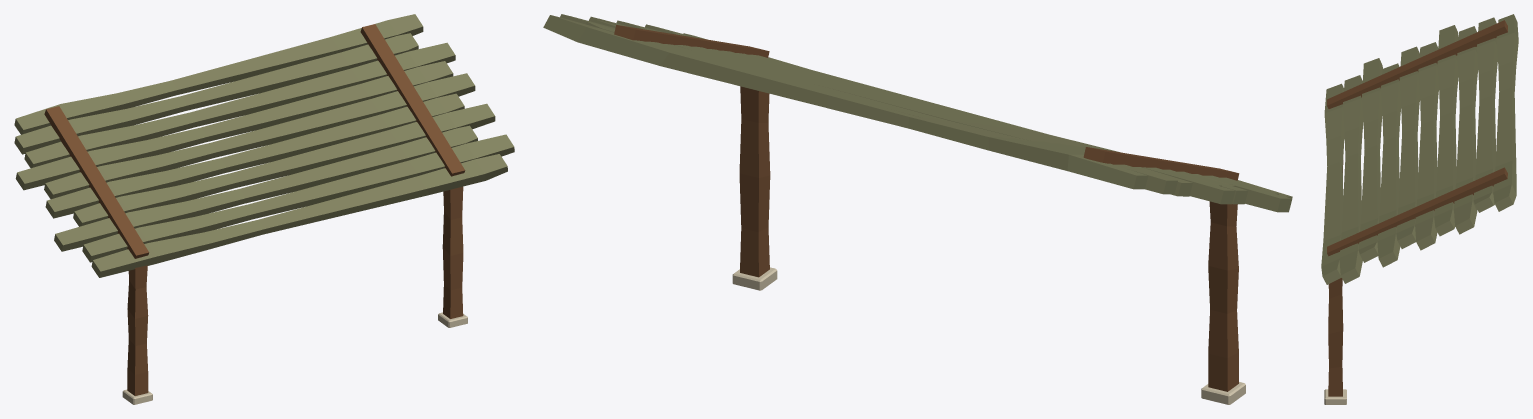
File: outbuilding.fbx
3 views of the same model, side by side, from view 1: azimuth 30°, elevation 25°; view 2: azimuth 150°, elevation 25°; view 3: azimuth 270°, elevation 25° (orthographic). The views are drawn at different scales.
Parts seen in each view (by area): view 1: Outbuilding; view 2: Outbuilding; view 3: Outbuilding.
Boxes of the visible parts, box(x1,y1,x2,y2) form: Outbuilding: box(14, 14, 514, 404); Outbuilding: box(543, 14, 1292, 404); Outbuilding: box(1321, 14, 1518, 404).
Bounding box in the file's own units: 673 × 339 × 264.
